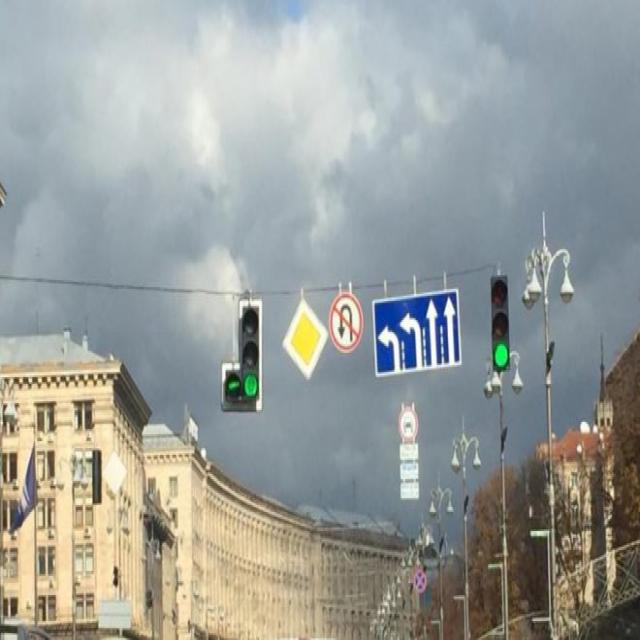no stopping: (413, 568, 428, 595)
no u turn: (328, 286, 366, 356)
